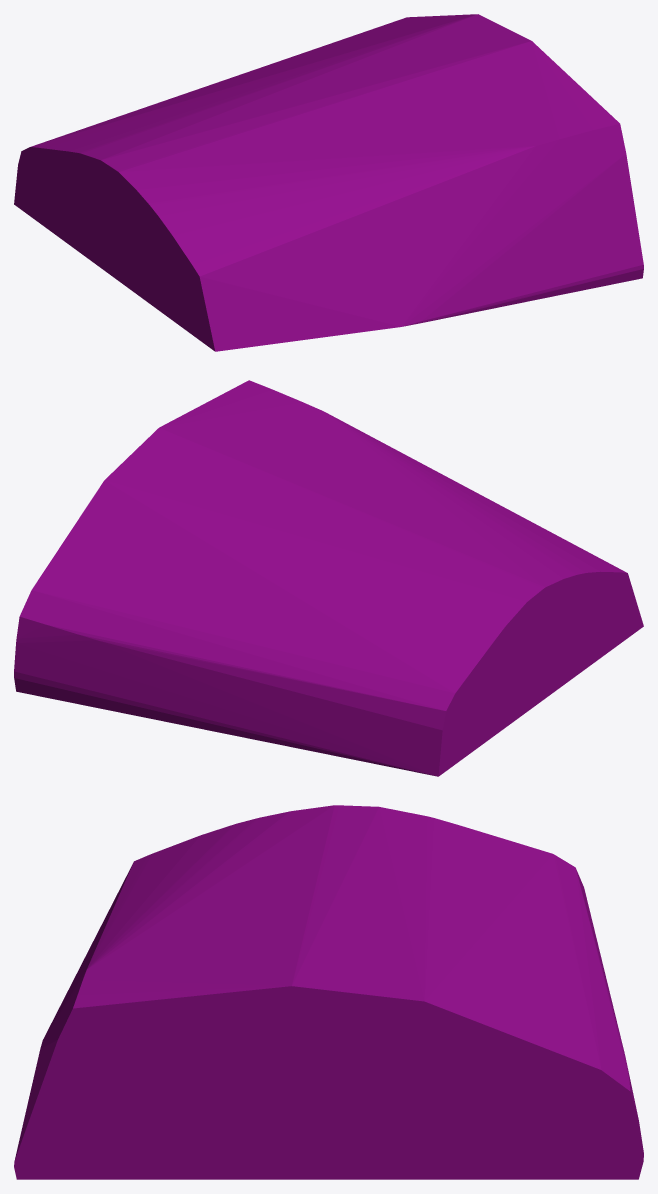
The picture shows the model from 3 angles, top to bottom: view 1: azimuth 30°, elevation 25°; view 2: azimuth 150°, elevation 25°; view 3: azimuth 270°, elevation 25°; orthographic projection. The views are drawn at different scales.
Bounding box in the file's own units: 0.0381 × 0.0143 × 0.0423.
